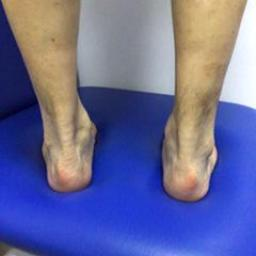Back View -Both Feet-: (18, 60, 233, 208)
